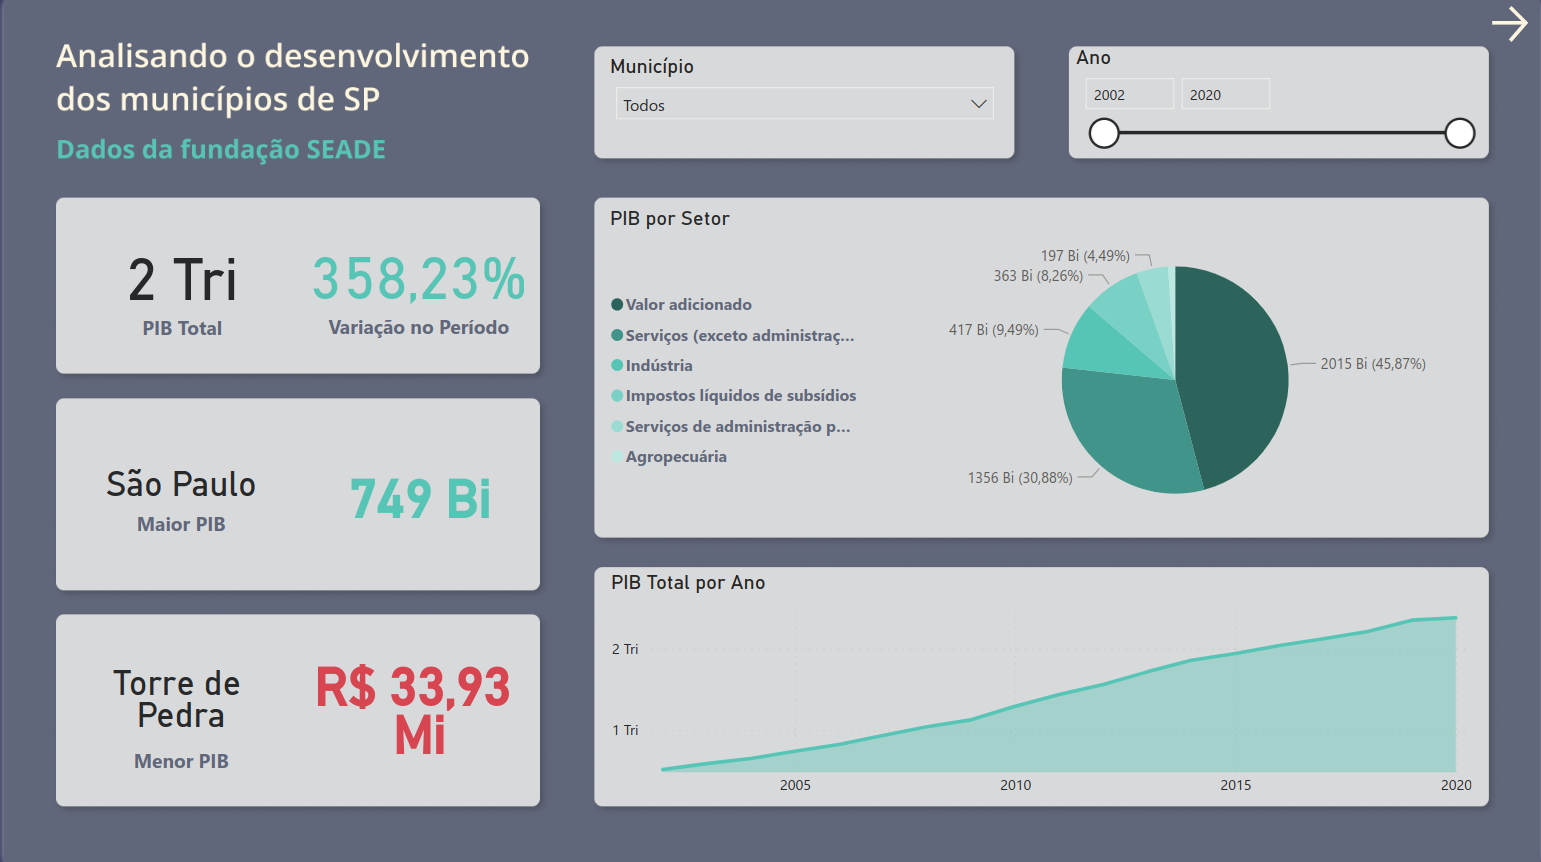

Layout of this report page (visuals, bound fields, positions):
{"tool":"powerbi","page":{"name":"PIB","canvas":[1280,720],"ordinal":0},"visuals":[{"type":"card","fields":{"Values":["Sum(pib.Valor)"]},"box":[49.6,165.8,196.8,143.6],"z":0},{"type":"pieChart","title":"PIB por Setor","fields":{"Category":["pib.Setor"],"Y":["Sum(pib.Valor)"]},"box":[500.1,173.8,734.2,269.6],"z":1000},{"type":"areaChart","title":"PIB Total por Ano","fields":{"Y":["Sum(pib.Valor)"],"Category":["pib.Ano"]},"box":[500.5,477.2,727,195.3],"z":2000},{"type":"slicer","title":"Ano","fields":{"Values":["pib.Ano"]},"box":[888.3,39.8,346,92.3],"z":3000},{"type":"slicer","title":"Município","fields":{"Values":["pib.Localidade"]},"box":[500.1,47.9,335.2,84.2],"z":4000},{"type":"card","fields":{"Values":["MedidasPIB.MaiorPIB"]},"box":[246.9,336.3,198.3,149.7],"z":5000},{"type":"card","fields":{"Values":["MedidasPIB.MenorPIB"]},"box":[246.9,515.1,198.3,153.6],"z":6000},{"type":"card","fields":{"Values":["MedidasPIB.MunicipioMenorPIB"]},"box":[49.6,515.1,197.3,157.4],"z":7000},{"type":"card","fields":{"Values":["MedidasPIB.MunicipioMaiorPIB"]},"box":[49.6,336.3,197.3,149.7],"z":8000},{"type":"card","fields":{"Values":["MedidasPIB.Variacao"]},"box":[246.5,165.8,197.7,142.8],"z":9000},{"type":"actionButton","box":[1234.3,0,45.7,39.8],"z":10000}]}

Visuals, with their boxes in screenshot pixels (x1, y1, x2, y2), scaled from the page's 1280x720 canvas onto the 1541x862 screenshot:
card - Sum(pib.Valor): (x1=60, y1=198, x2=297, y2=370)
"PIB por Setor" pieChart: (x1=602, y1=208, x2=1486, y2=531)
"PIB Total por Ano" areaChart: (x1=603, y1=571, x2=1478, y2=805)
"Ano" slicer: (x1=1069, y1=48, x2=1486, y2=158)
"Município" slicer: (x1=602, y1=57, x2=1006, y2=158)
card - MedidasPIB.MaiorPIB: (x1=297, y1=403, x2=536, y2=582)
card - MedidasPIB.MenorPIB: (x1=297, y1=617, x2=536, y2=801)
card - MedidasPIB.MunicipioMenorPIB: (x1=60, y1=617, x2=297, y2=805)
card - MedidasPIB.MunicipioMaiorPIB: (x1=60, y1=403, x2=297, y2=582)
card - MedidasPIB.Variacao: (x1=297, y1=198, x2=535, y2=369)
actionButton: (x1=1486, y1=0, x2=1540, y2=48)
